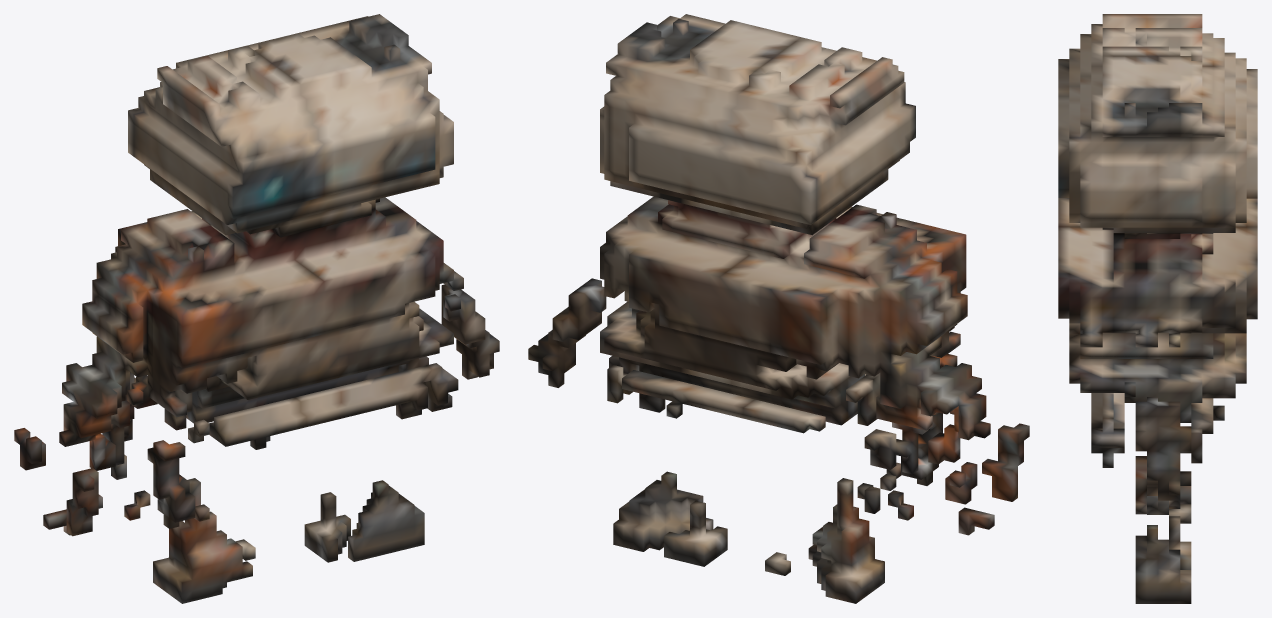
The model's file is sheet3_L10.glb.
The picture shows the model from 3 angles, left to right: view 1: azimuth 30°, elevation 25°; view 2: azimuth 150°, elevation 25°; view 3: azimuth 270°, elevation 25°; orthographic projection. The views are drawn at different scales.
Visible parts, largest first — view 1: BPT_sheet3_L10; view 2: BPT_sheet3_L10; view 3: BPT_sheet3_L10.
Part boxes in pixels (x1,y1,x2,y2): BPT_sheet3_L10: (14,14,499,603); BPT_sheet3_L10: (528,14,1029,603); BPT_sheet3_L10: (1058,14,1257,603).
Size of the model in its own units: 1.88 by 2 by 0.75.
